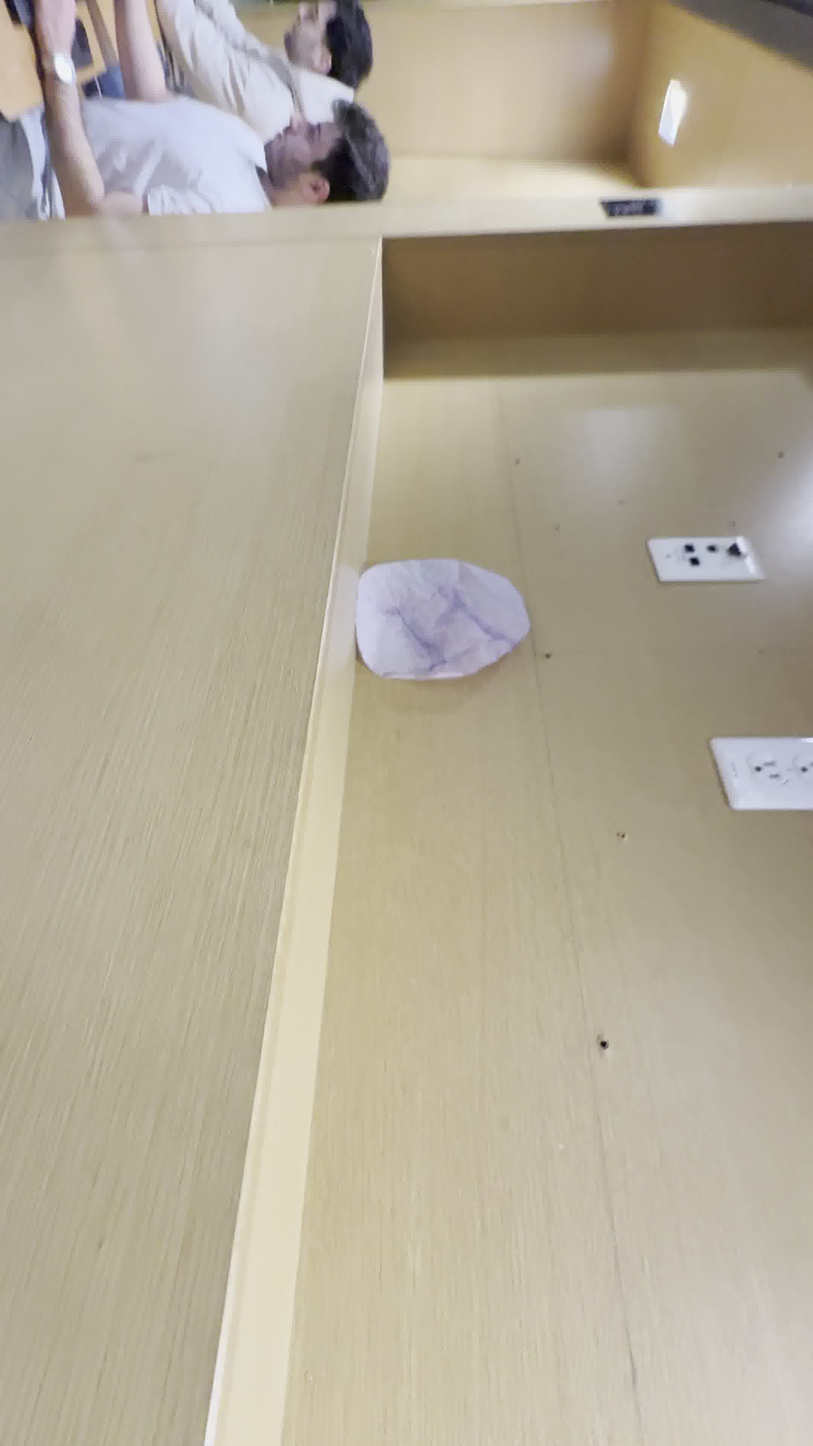Target: (352, 562, 532, 683)
